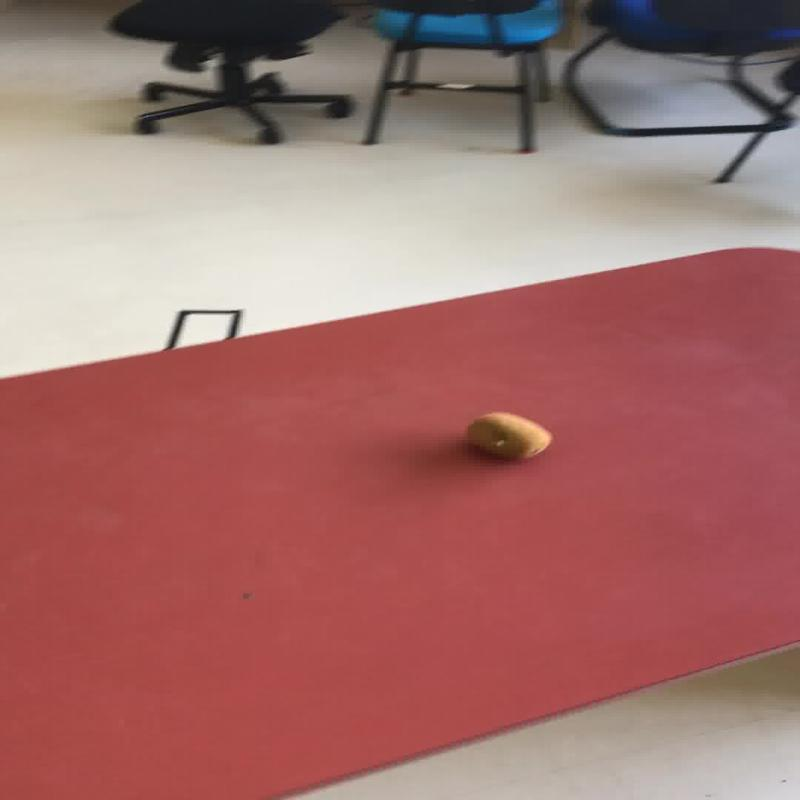kiwi: (465, 411, 552, 460)
